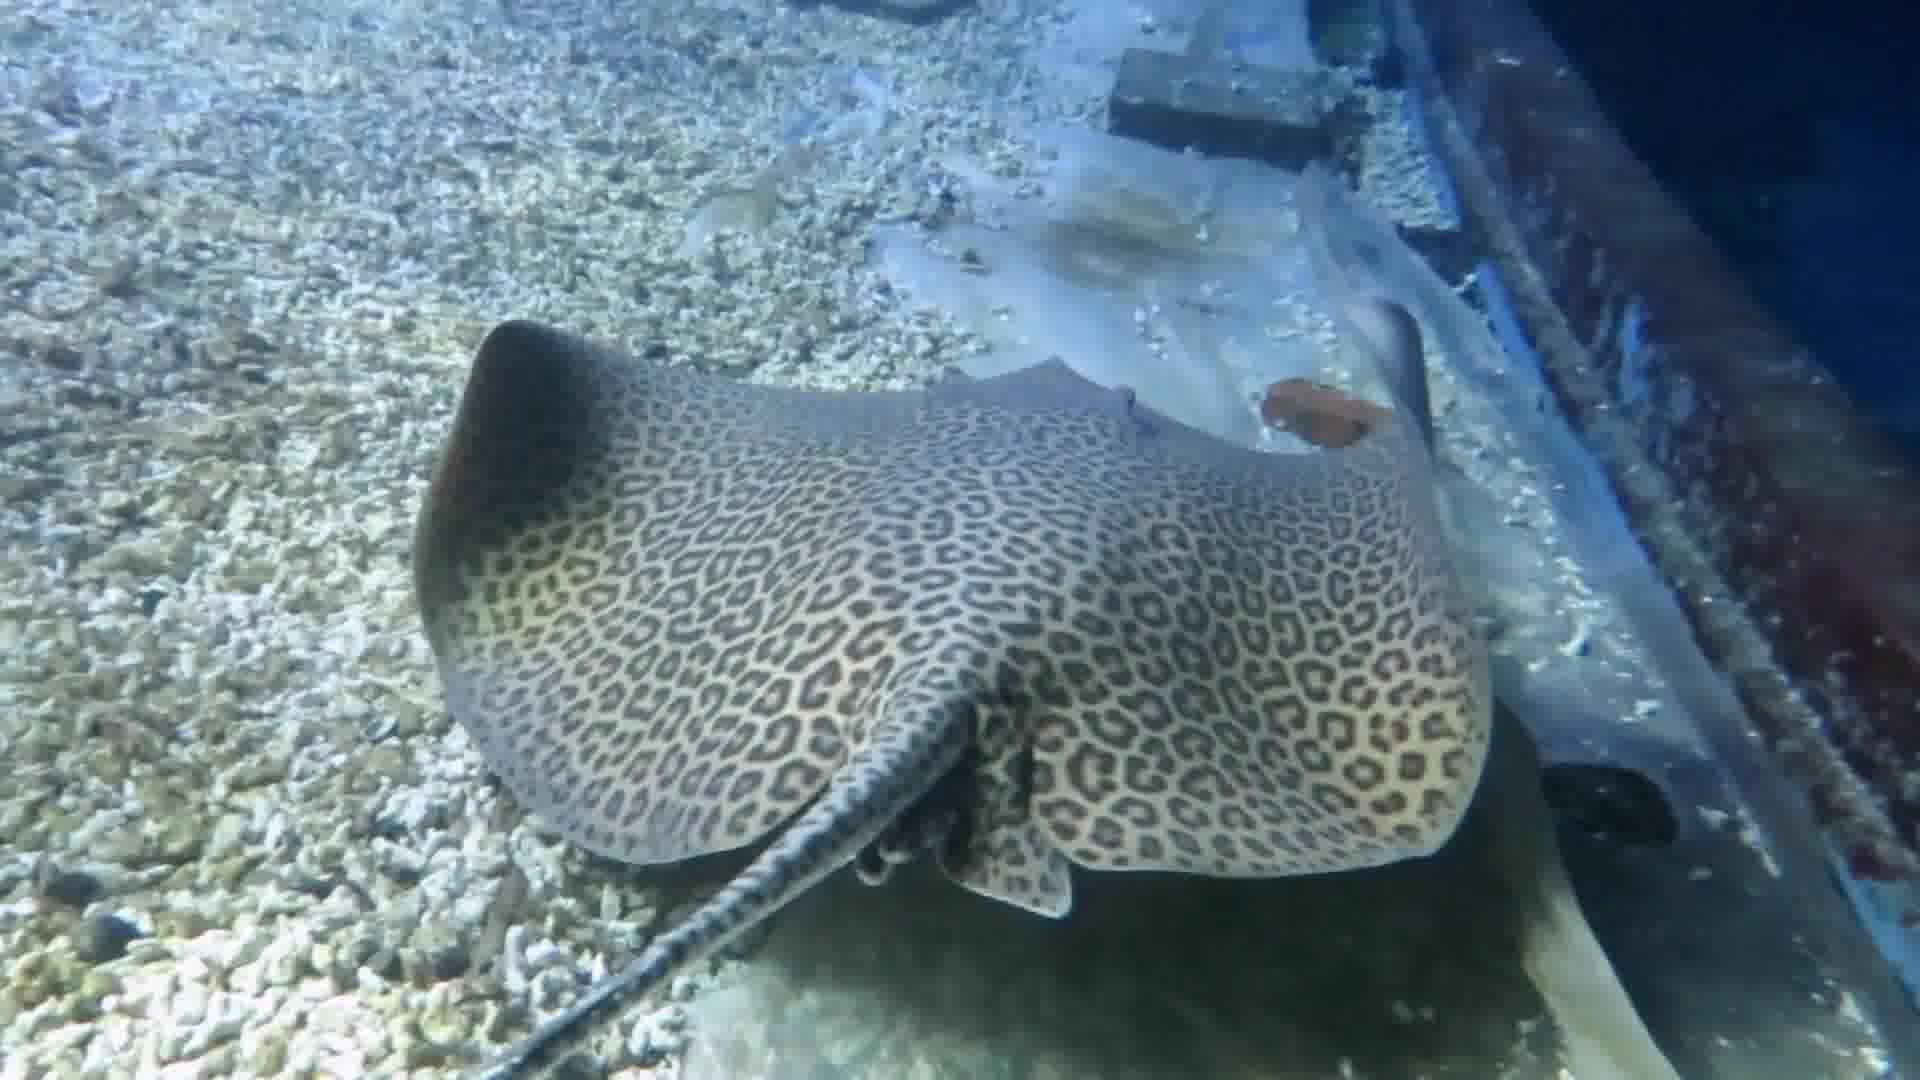Himantura uarnak: (371, 287, 1636, 1080)
